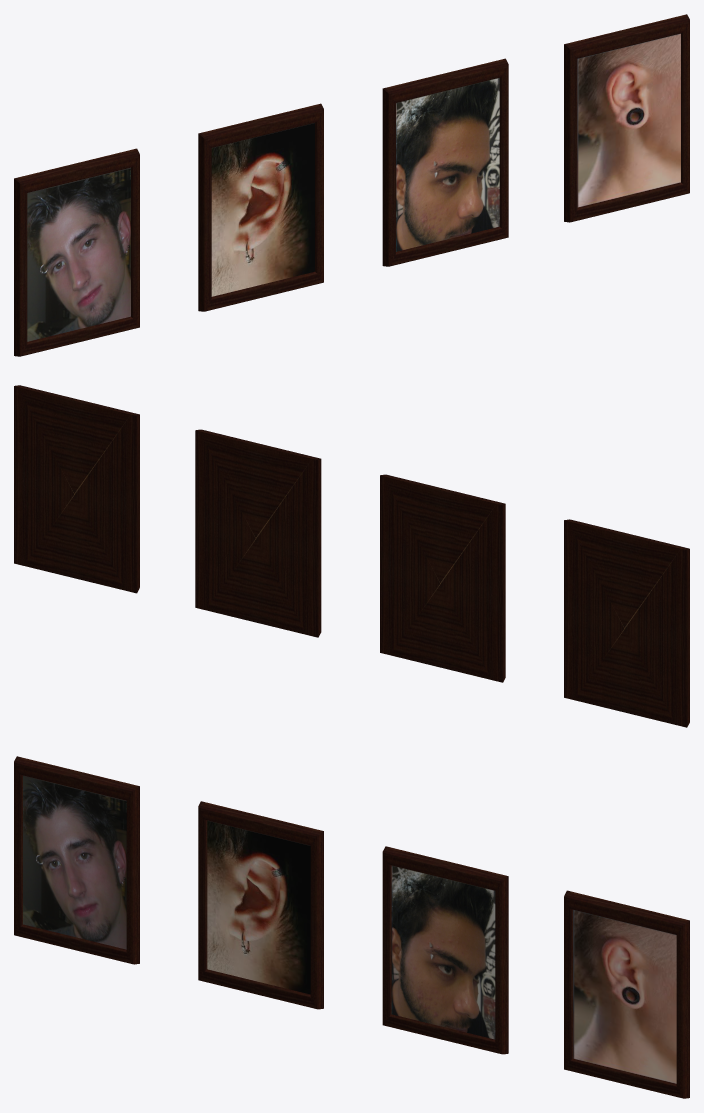
The model's file is Frames_Piercing.fbx.
3 views of the same model, one above another, from view 1: azimuth 30°, elevation 25°; view 2: azimuth 150°, elevation 25°; view 3: azimuth 330°, elevation 25° (orthographic).
Visible parts, largest first — view 1: Frame_Frame_7, Frame_Frame_8, Frame_Frame_5, Frame_Frame_6; view 2: Frame_Frame_7, Frame_Frame_5, Frame_Frame_6, Frame_Frame_8; view 3: Frame_Frame_7, Frame_Frame_5, Frame_Frame_6, Frame_Frame_8.
Boxes of the visible parts, x1=… form: Frame_Frame_7: x1=382, y1=58, x2=508, y2=266; Frame_Frame_8: x1=564, y1=14, x2=689, y2=222; Frame_Frame_5: x1=14, y1=148, x2=139, y2=356; Frame_Frame_6: x1=198, y1=103, x2=323, y2=311; Frame_Frame_7: x1=195, y1=429, x2=321, y2=637; Frame_Frame_5: x1=564, y1=519, x2=689, y2=727; Frame_Frame_6: x1=380, y1=474, x2=505, y2=682; Frame_Frame_8: x1=14, y1=385, x2=139, y2=593; Frame_Frame_7: x1=382, y1=846, x2=508, y2=1054; Frame_Frame_5: x1=14, y1=756, x2=139, y2=964; Frame_Frame_6: x1=198, y1=801, x2=323, y2=1009; Frame_Frame_8: x1=564, y1=890, x2=689, y2=1098.
Bounding box in the file's own units: 119 × 30.05 × 1.46.
